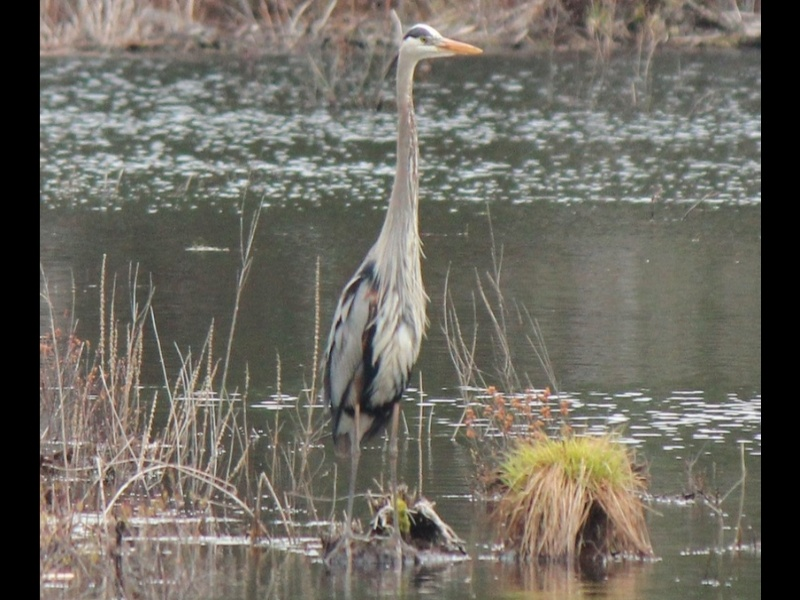heron: (312, 20, 490, 487)
